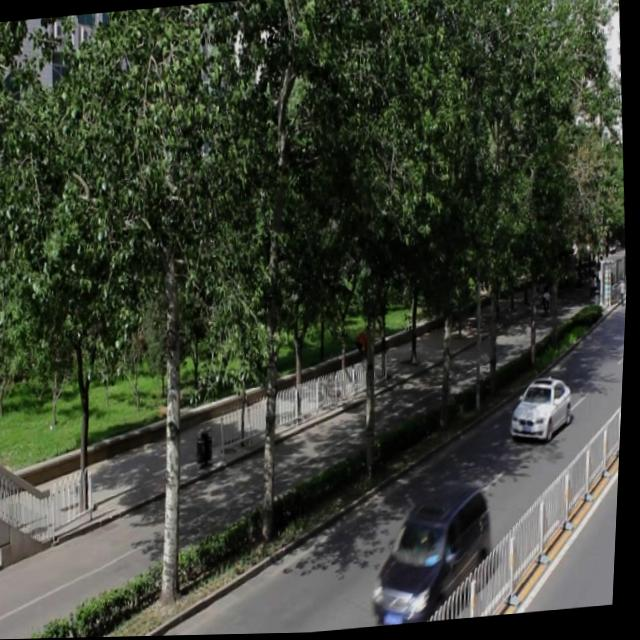car: (368, 479, 502, 628), (507, 374, 578, 445)
